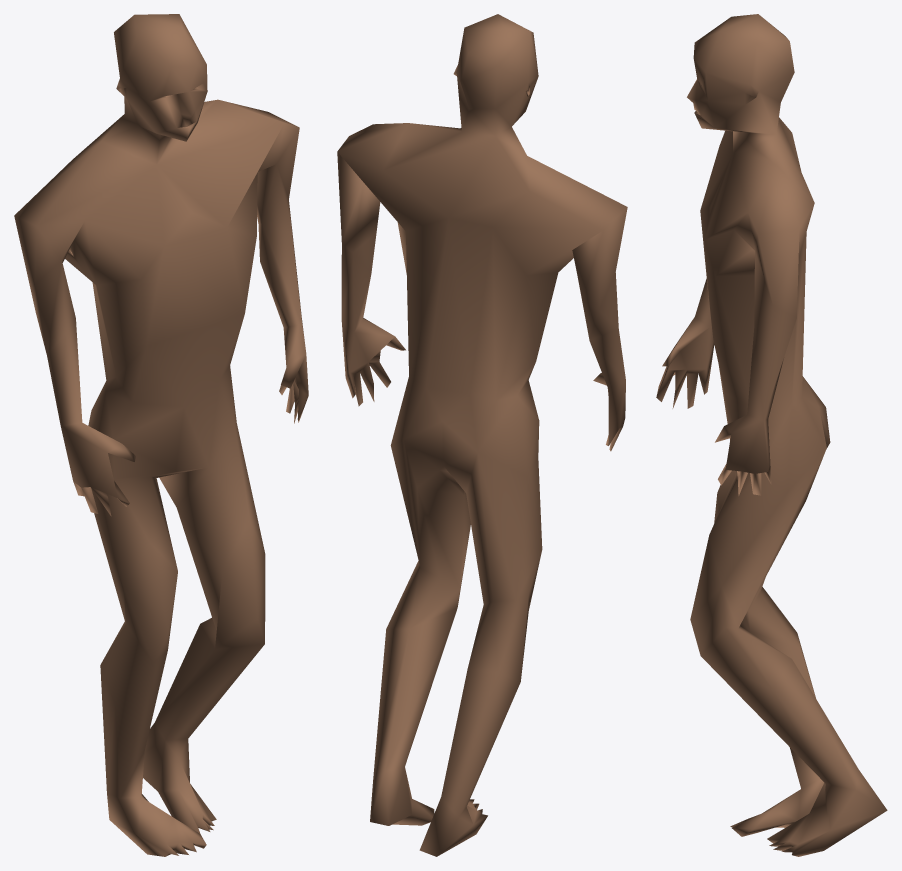
The model's file is obs_000023.obj.
The picture shows the model from 3 angles, left to right: view 1: azimuth 30°, elevation 25°; view 2: azimuth 150°, elevation 25°; view 3: azimuth 270°, elevation 25°; orthographic projection. The views are drawn at different scales.
Parts seen in each view (by area): view 1: 1-base_1-base.008; view 2: 1-base_1-base.008; view 3: 1-base_1-base.008.
Part boxes in pixels (x1,y1,x2,y2): 1-base_1-base.008: [14, 14, 308, 856]; 1-base_1-base.008: [337, 14, 627, 856]; 1-base_1-base.008: [656, 14, 887, 856].
Size of the model in its own units: 0.442 by 1.27 by 0.33.
